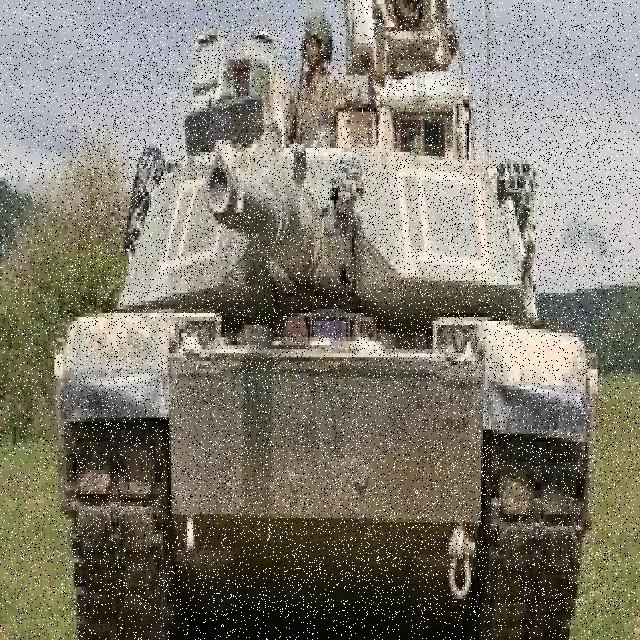MIL_MBT: (70, 20, 620, 615)
